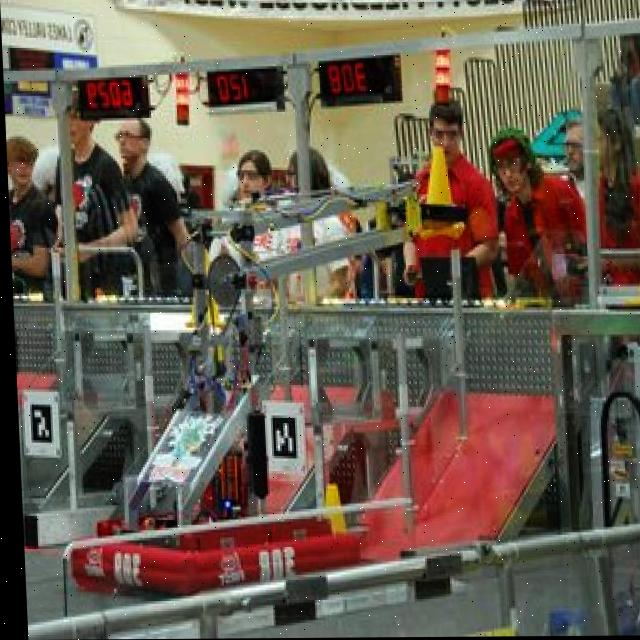robot: (47, 139, 485, 601)
